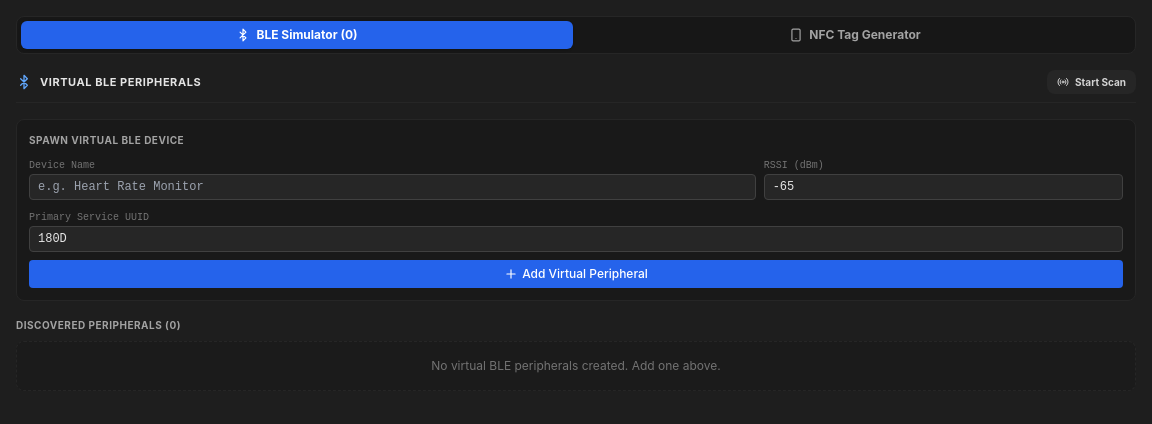
Milestone 3: React Sensor Components Rendering & Interactions › should render BleNfcSimulator and toggle between BLE and NFC tabs
Note: Switch to NFC tab
What coordinates should you click on to do the following:
click the button "NFC Tag Generator"
I would click on:
 (855, 35)
Its box is [579,21,1131,49].
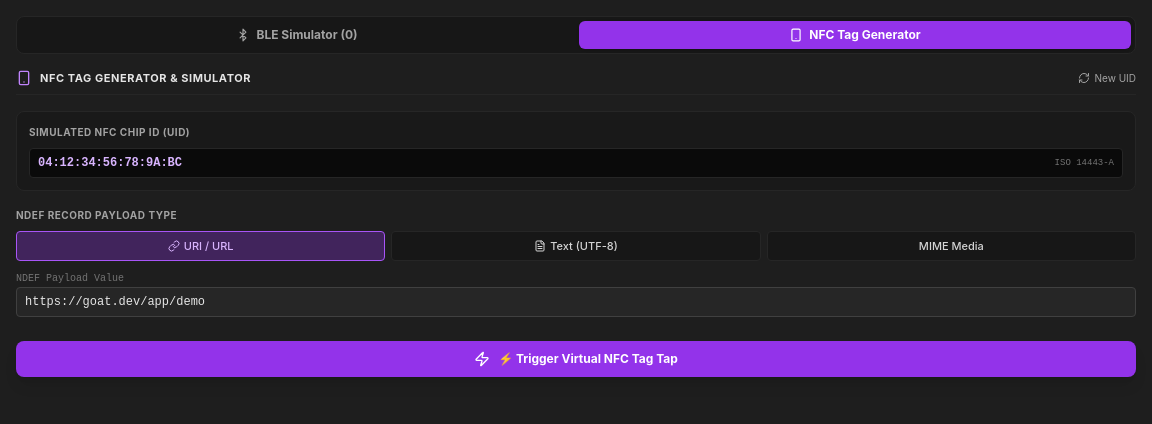
Expected: the element with test id "nfc-section" is shown
Expected: the text "Simulated NFC Chip ID (UID)" is shown, [29,126,190,138]
Note: Trigger NFC tap
What coordinates should you click on to do the following:
click the button "⚡ Trigger Virtual NFC Tag Tap"
I would click on:
 (576, 359)
Its box is [16,341,1136,377].
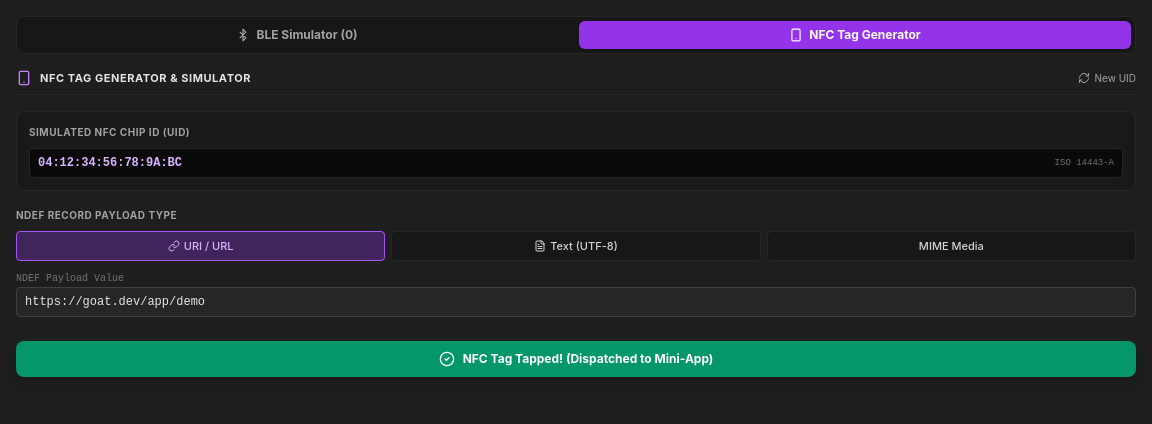
Expected: the text "NFC Tag Tapped! (Dispatched to Mini-App)" is shown, [463,351,713,367]
